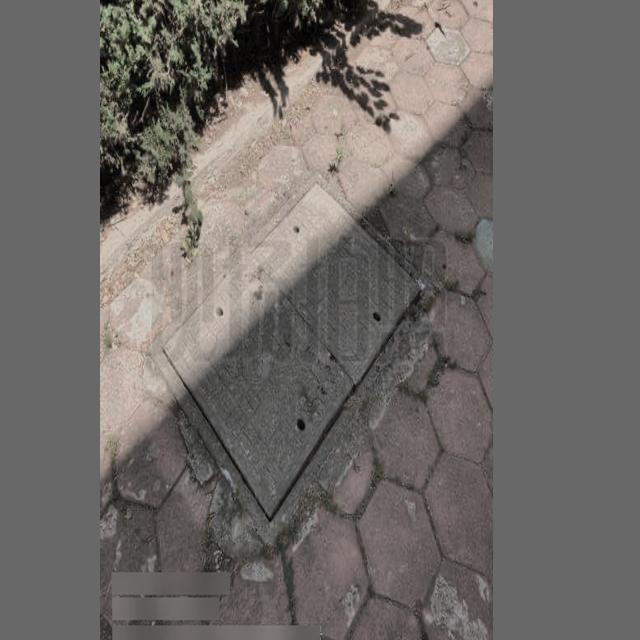good: (147, 172, 435, 551)
